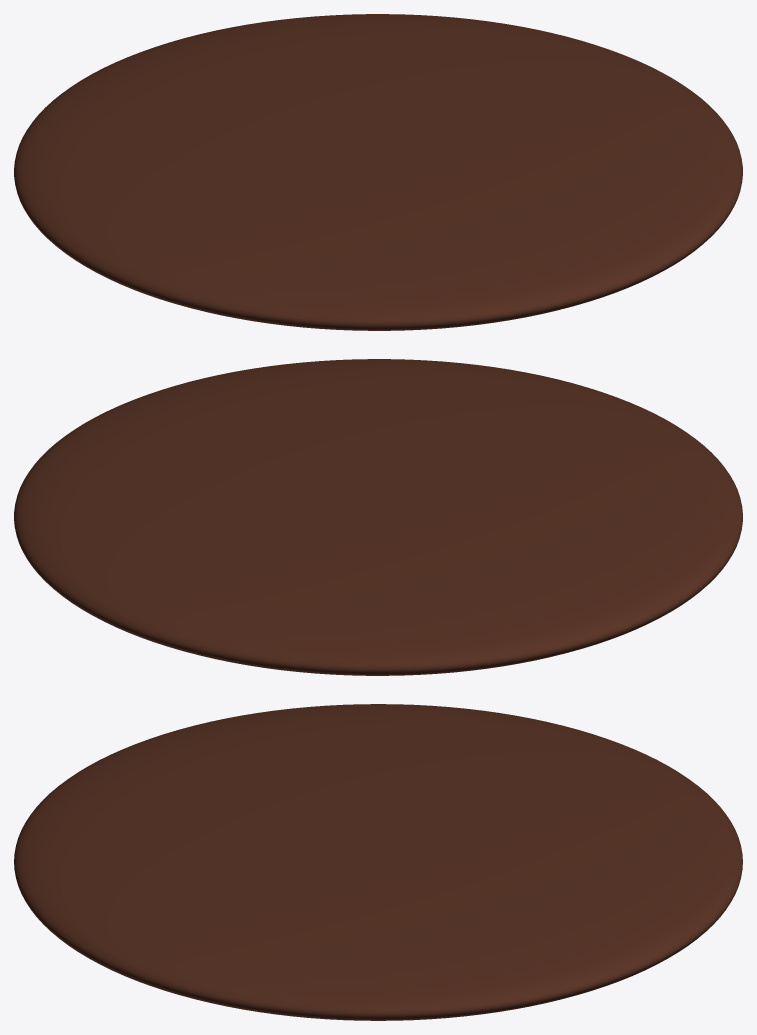
The model's file is patty.fbx.
3 renders of one model, top to bottom at view 1: azimuth 30°, elevation 25°; view 2: azimuth 150°, elevation 25°; view 3: azimuth 270°, elevation 25°, orthographic.
Visible parts, largest first — view 1: Sphere.001; view 2: Sphere.001; view 3: Sphere.001.
Boxes of the visible parts, box(x1,y1,x2,y2) form: Sphere.001: box(14, 14, 742, 330); Sphere.001: box(14, 359, 742, 675); Sphere.001: box(14, 704, 742, 1020).
Bounding box in the file's own units: 202 × 16.19 × 202.
